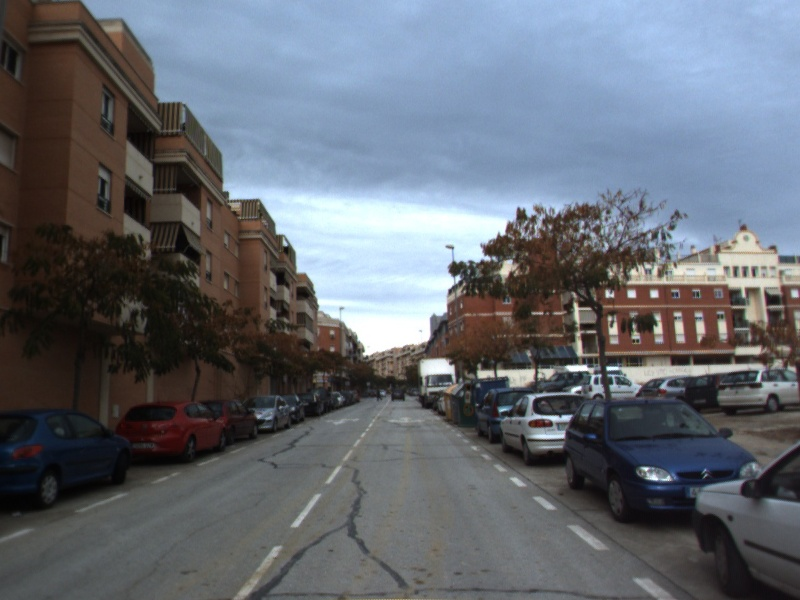STRAIGHT_LEFT_RIGHT: (385, 414, 428, 426)
